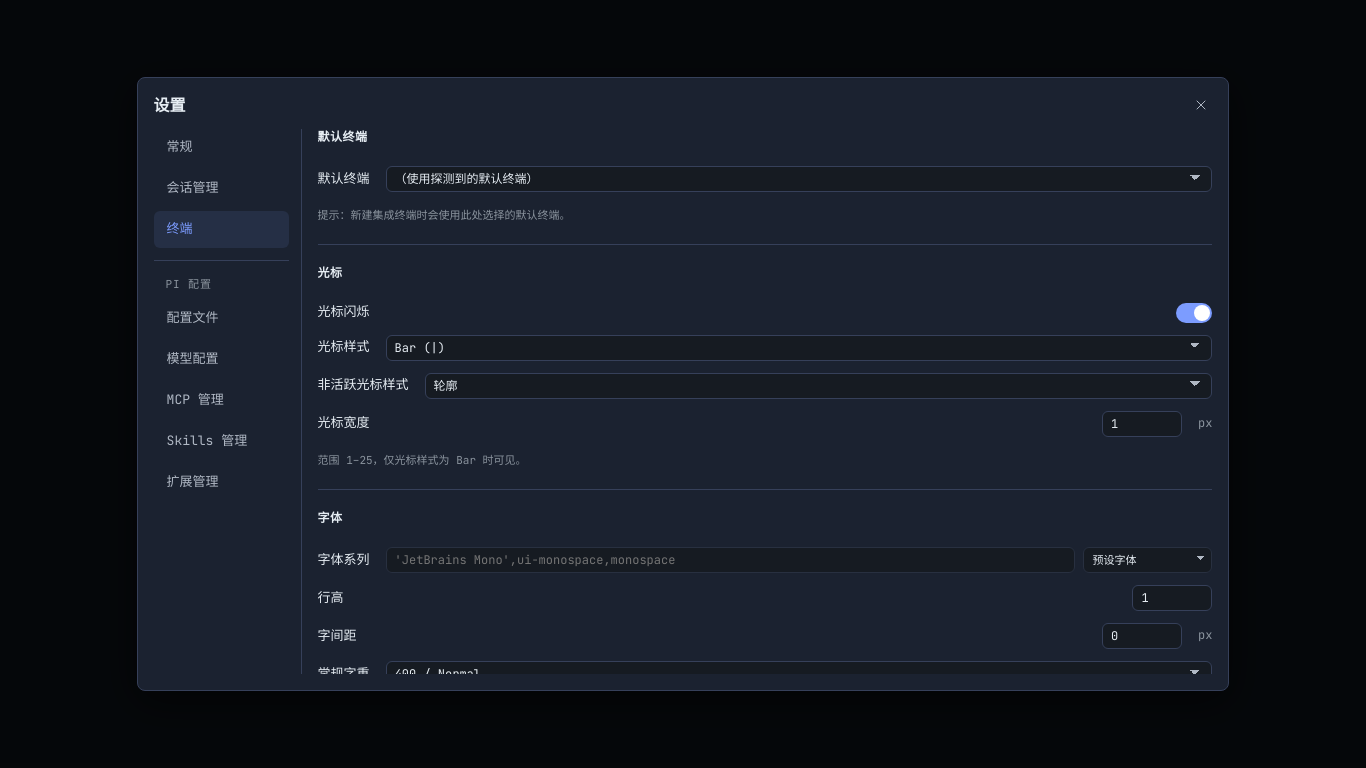
Scenario: SettingsPanel 终端设置 › 选择 custom → 显示自定义路径输入框
This screenshot has width=1366, height=768.
Click the button "终端" at (221, 229), box top-left (154, 211), bottom-right (289, 248)
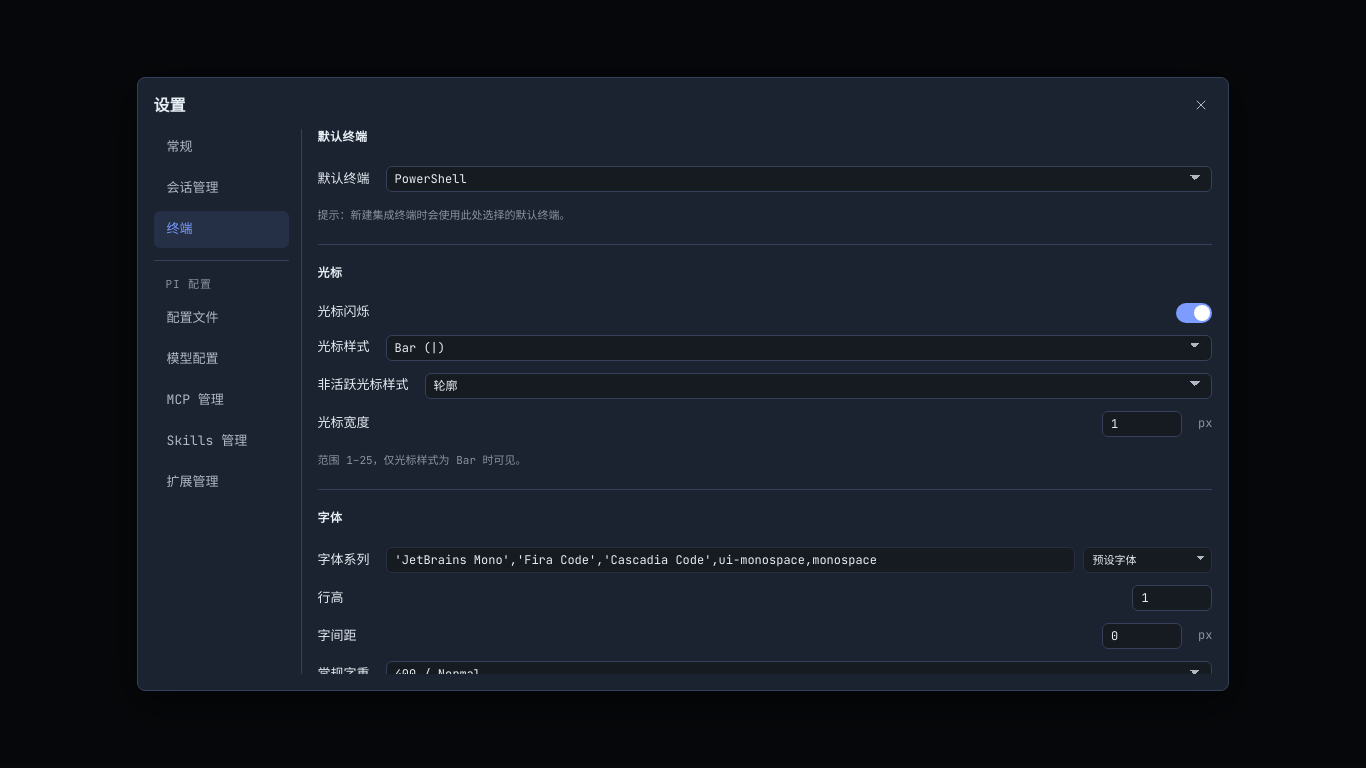
Check: the field labelled "shell 路径" is not shown
Select "其他（自定义路径）" in the dropdown named "默认终端" at (799, 179), box top-left (386, 166), bottom-right (1212, 192)
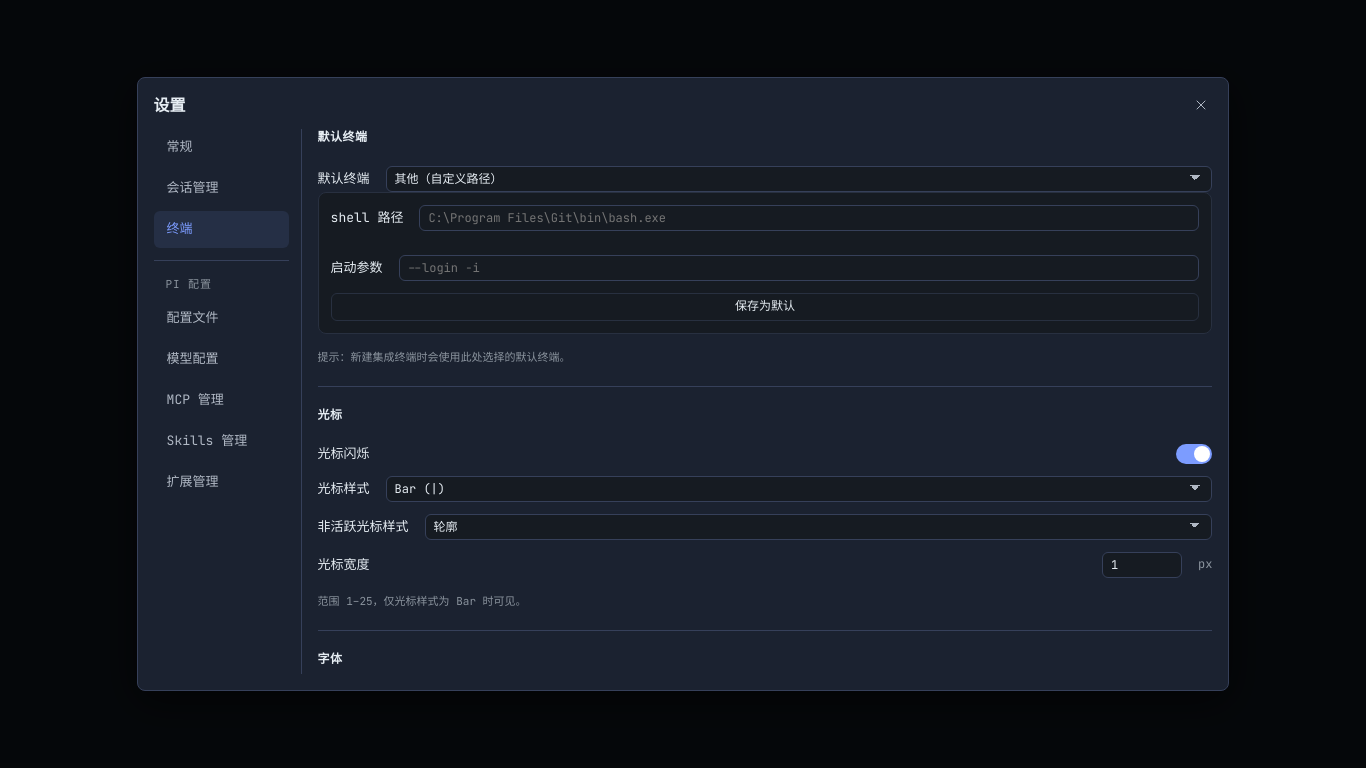
Check: the field named "shell 路径" is shown, box top-left (419, 205), bottom-right (1199, 231)
Check: the field named "启动参数" is shown, box top-left (399, 255), bottom-right (1199, 281)
Check: the button "保存为默认" is shown, box top-left (331, 293), bottom-right (1199, 321)
